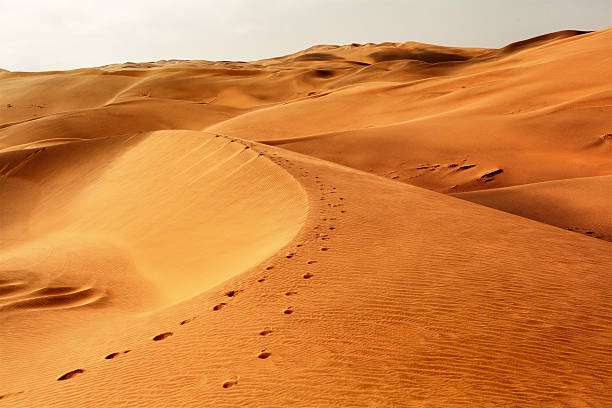human_foot_print: (57, 369, 84, 380), (105, 349, 130, 358), (0, 391, 23, 399), (222, 377, 238, 388), (153, 332, 173, 340), (179, 316, 197, 324), (257, 349, 271, 358), (212, 302, 226, 310), (224, 290, 241, 296), (259, 327, 271, 335), (283, 306, 293, 314), (302, 272, 313, 278), (257, 276, 265, 282), (285, 291, 297, 295), (265, 266, 274, 271), (285, 253, 294, 258), (307, 260, 316, 264), (320, 247, 328, 251)
